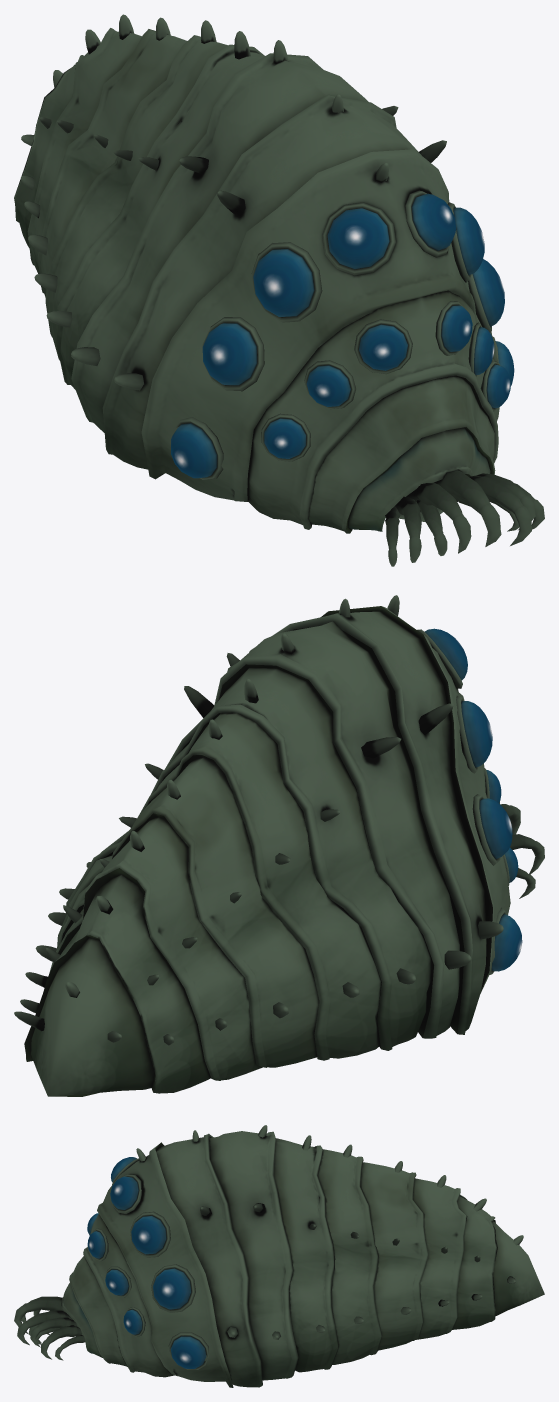
File: ohmu.glb
The picture shows the model from 3 angles, top to bottom: view 1: azimuth 30°, elevation 25°; view 2: azimuth 150°, elevation 25°; view 3: azimuth 270°, elevation 25°; orthographic projection. The views are drawn at different scales.
Parts seen in each view (by area): view 1: polySurface6, polySurface15, polySurface16, polySurface13, polySurface8, polySurface17, polySurface18, Ohmu07:polySurface19, polySurface7, Ohmu07:polySurface20, polySurface48, polySurface51 (+17 smaller); view 2: polySurface17, polySurface16, polySurface18, Ohmu07:polySurface19, polySurface15, Ohmu07:polySurface20, polySurface22, Ohmu07:polySurface21, polySurface6, polySurface45, polySurface48, polySurface51 (+3 smaller); view 3: polySurface16, polySurface15, polySurface17, polySurface6, polySurface18, Ohmu07:polySurface19, Ohmu07:polySurface20, Ohmu07:polySurface21, polySurface13, polySurface22, polySurface8, polySurface44 (+12 smaller).
Part boxes in pixels (x1=…): polySurface6: x1=141, y1=149, x2=498, y2=501; polySurface15: x1=102, y1=94, x2=420, y2=469; polySurface16: x1=71, y1=53, x2=368, y2=432; polySurface13: x1=248, y1=290, x2=499, y2=529; polySurface8: x1=308, y1=376, x2=495, y2=533; polySurface17: x1=55, y1=44, x2=264, y2=389; polySurface18: x1=45, y1=35, x2=227, y2=360; Ohmu07:polySurface19: x1=37, y1=29, x2=186, y2=297; polySurface7: x1=348, y1=427, x2=490, y2=531; Ohmu07:polySurface20: x1=27, y1=28, x2=141, y2=273; polySurface48: x1=251, y1=242, x2=322, y2=322; polySurface51: x1=322, y1=202, x2=396, y2=275; polySurface17: x1=66, y1=667, x2=431, y2=1050; polySurface16: x1=101, y1=621, x2=460, y2=1038; polySurface18: x1=57, y1=713, x2=381, y2=1060; Ohmu07:polySurface19: x1=56, y1=757, x2=319, y2=1067; polySurface15: x1=249, y1=611, x2=486, y2=1034; Ohmu07:polySurface20: x1=49, y1=817, x2=262, y2=1080; polySurface22: x1=31, y1=938, x2=154, y2=1096; Ohmu07:polySurface21: x1=24, y1=874, x2=210, y2=1093; polySurface6: x1=321, y1=606, x2=510, y2=993; polySurface45: x1=472, y1=794, x2=512, y2=865; polySurface48: x1=456, y1=695, x2=492, y2=773; polySurface51: x1=417, y1=628, x2=467, y2=688; polySurface16: x1=208, y1=1131, x2=298, y2=1380; polySurface15: x1=156, y1=1133, x2=262, y2=1387; polySurface17: x1=274, y1=1138, x2=338, y2=1372; polySurface6: x1=97, y1=1142, x2=233, y2=1387; polySurface18: x1=318, y1=1149, x2=381, y2=1364; Ohmu07:polySurface19: x1=361, y1=1162, x2=428, y2=1350; Ohmu07:polySurface20: x1=413, y1=1178, x2=467, y2=1339; Ohmu07:polySurface21: x1=452, y1=1196, x2=497, y2=1329; polySurface13: x1=83, y1=1214, x2=174, y2=1377; polySurface22: x1=492, y1=1221, x2=544, y2=1316; polySurface8: x1=69, y1=1256, x2=127, y2=1366; polySurface44: x1=151, y1=1264, x2=195, y2=1312.
Size of the model in its own units: 27.15 by 25.78 by 55.28.
1 material, 1 textured.
